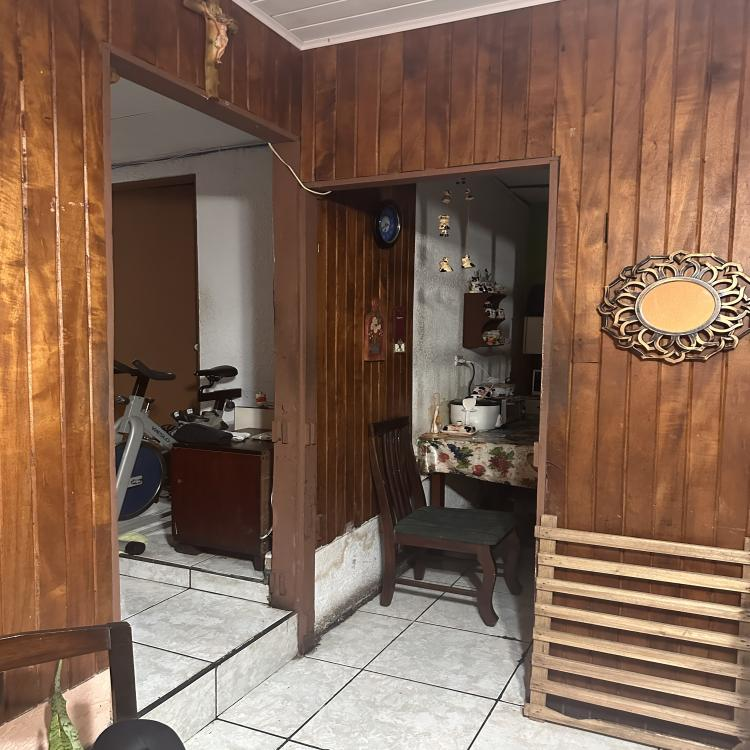OpenDoor: (94, 47, 299, 648), (304, 175, 543, 661)
